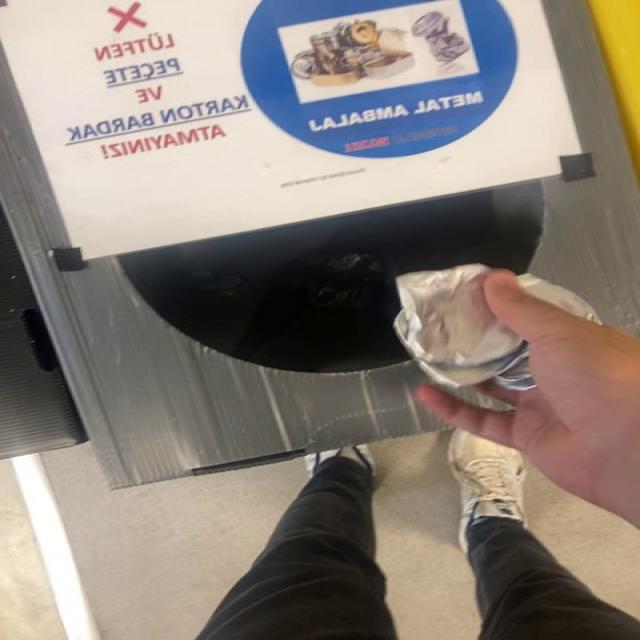Bin: (0, 0, 637, 488)
Metal: (395, 264, 533, 390), (517, 274, 599, 324)
